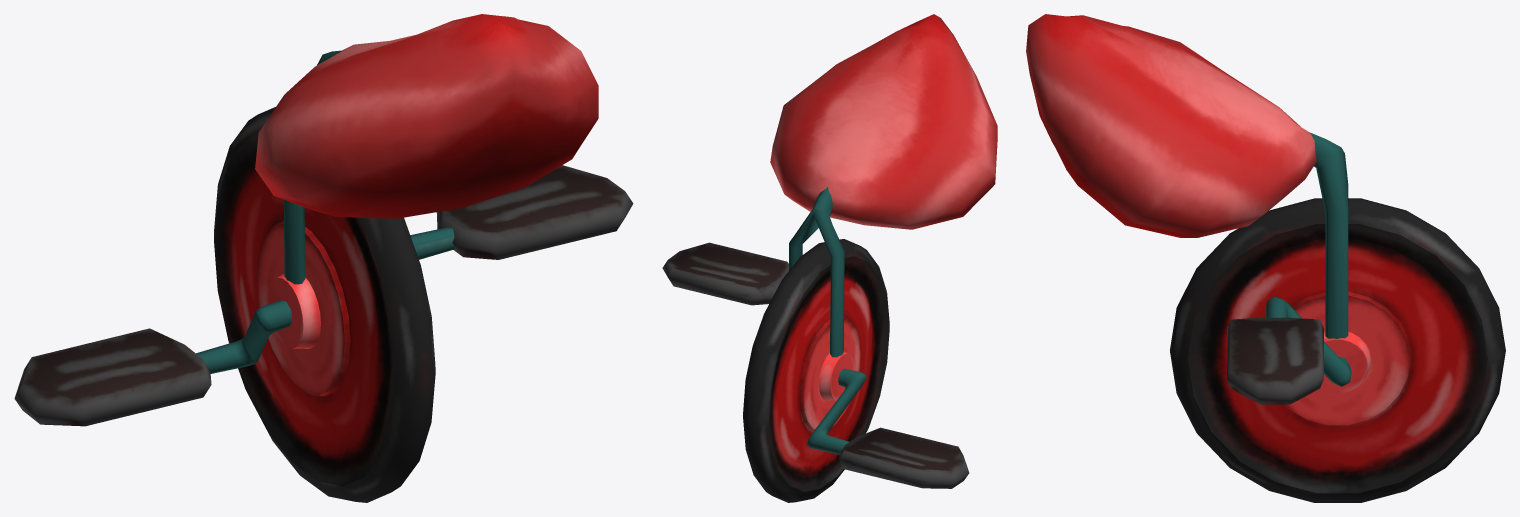
Rendered from Ciclo_mesh.FBX.
3 views of the same model, side by side, from view 1: azimuth 30°, elevation 25°; view 2: azimuth 150°, elevation 25°; view 3: azimuth 270°, elevation 25° (orthographic). The views are drawn at different scales.
Visible parts, largest first — view 1: Object001; view 2: Object001; view 3: Object001.
Part boxes in pixels (bbox=[...]): Object001: bbox=[14, 14, 633, 502]; Object001: bbox=[662, 14, 997, 502]; Object001: bbox=[1026, 14, 1505, 502].
Bounding box in the file's own units: 81.96 × 88.93 × 79.35.
